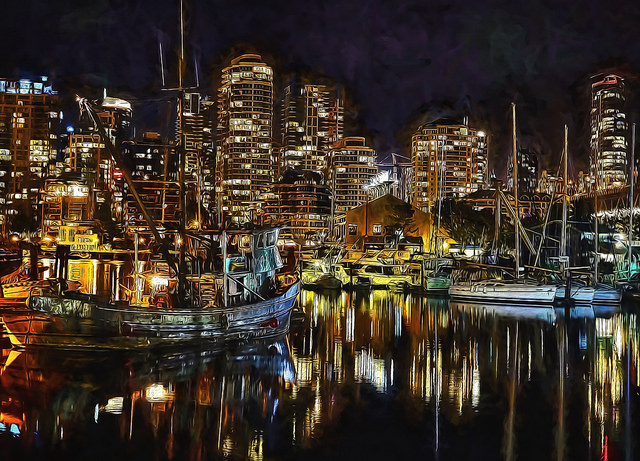boat: (443, 107, 558, 311)
fishing_boat: (18, 192, 303, 349)
